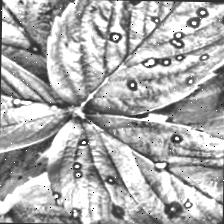Leaf Spot: (44, 0, 224, 118), (46, 113, 224, 224), (0, 24, 76, 161), (0, 0, 74, 87)
